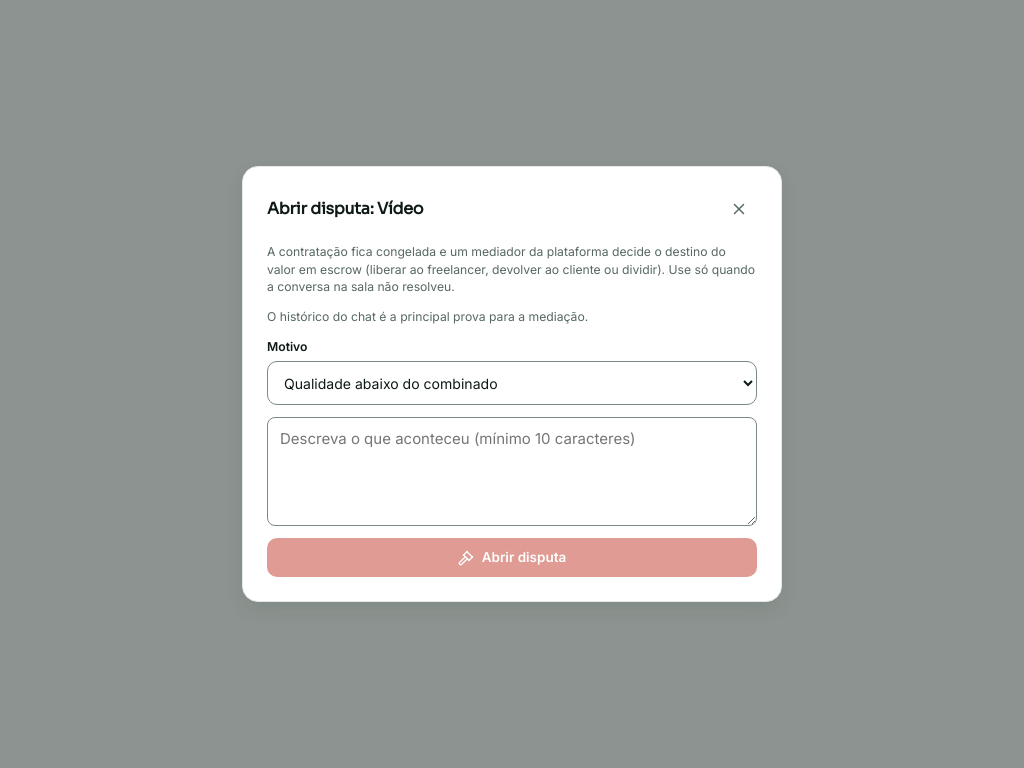
Test case: DisputeModal › envia a contratação, o motivo escolhido e a descrição sem espaços nas pontas; avisa e fecha
Select "Prazo não cumprido" in the dropdown labelled "Motivo" at (512, 383), box top-left (267, 361), bottom-right (757, 405)
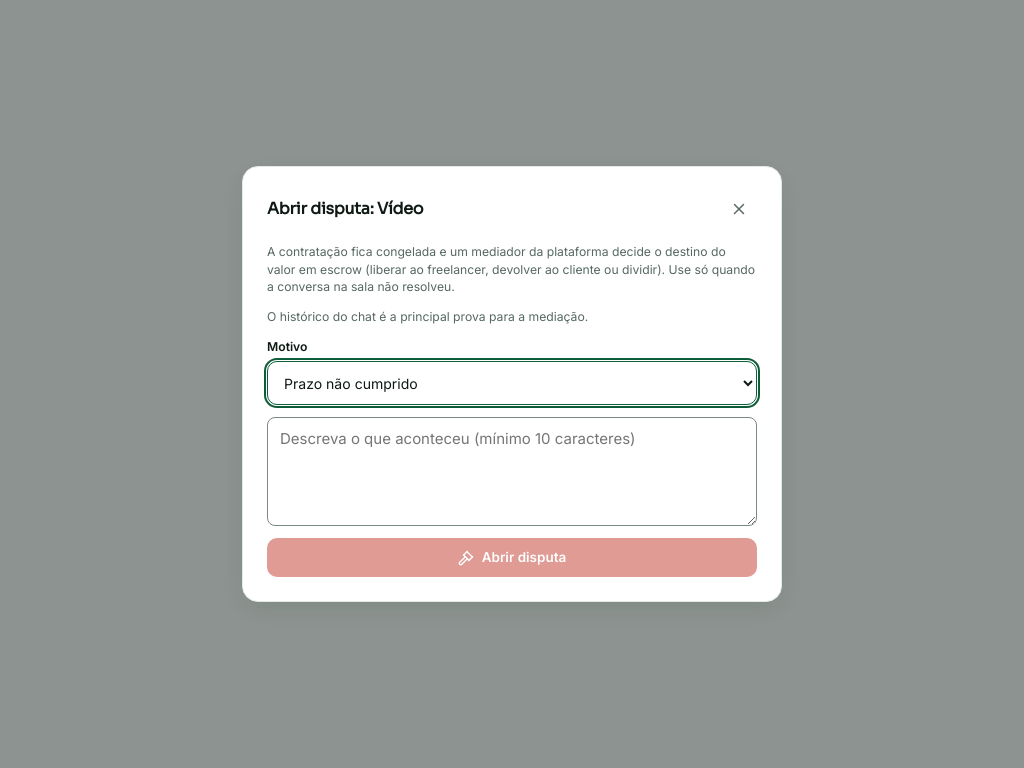
Type "  O prazo venceu e nada foi entregue.  " into the text box named "Descrição da disputa" at (512, 472), box top-left (267, 417), bottom-right (757, 526)
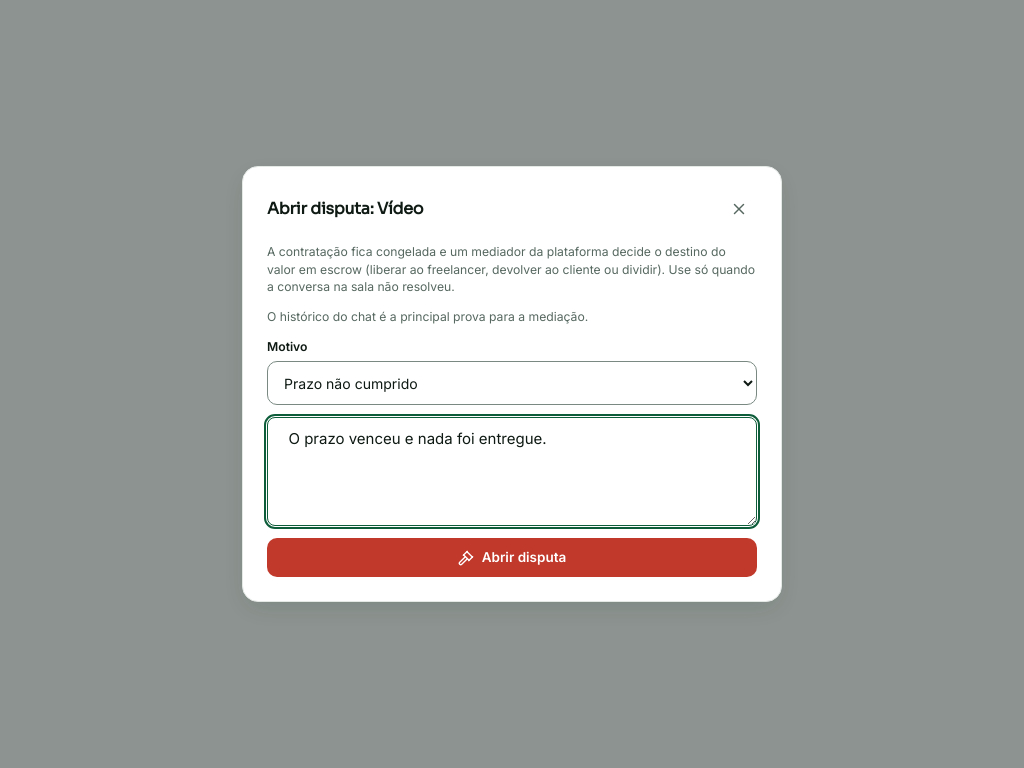
Click the button "Abrir disputa" at (512, 558), box top-left (267, 538), bottom-right (757, 577)
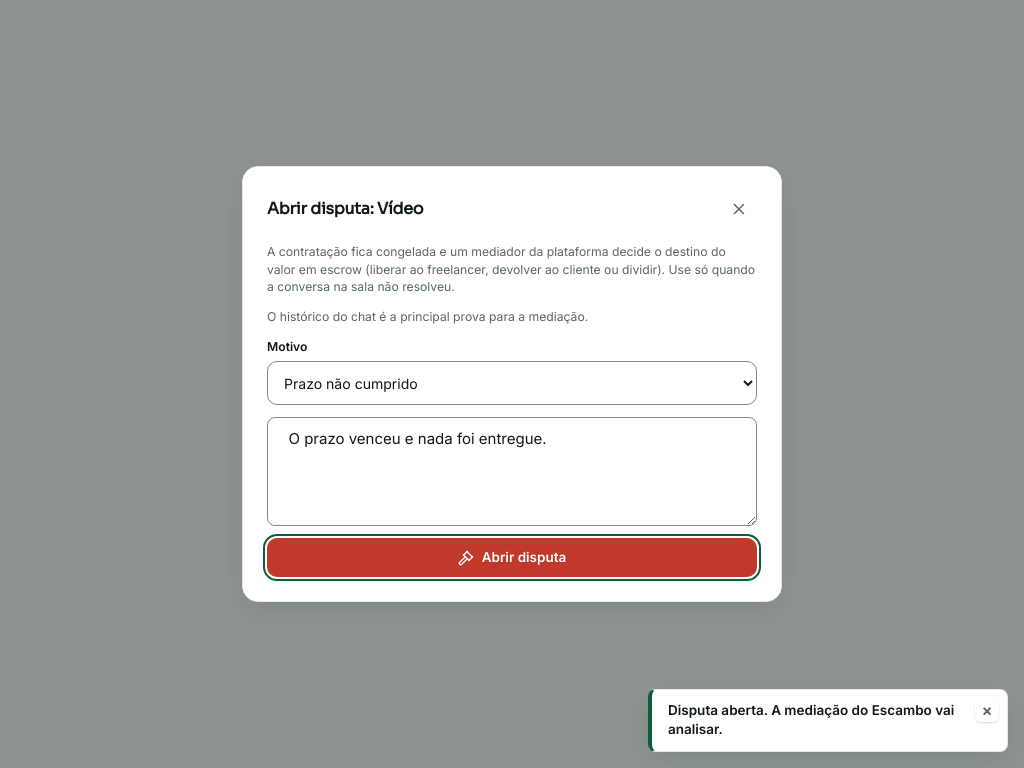
Check: the text "Disputa aberta. A mediação do Escambo vai analisar." is shown, box top-left (668, 701), bottom-right (967, 740)
